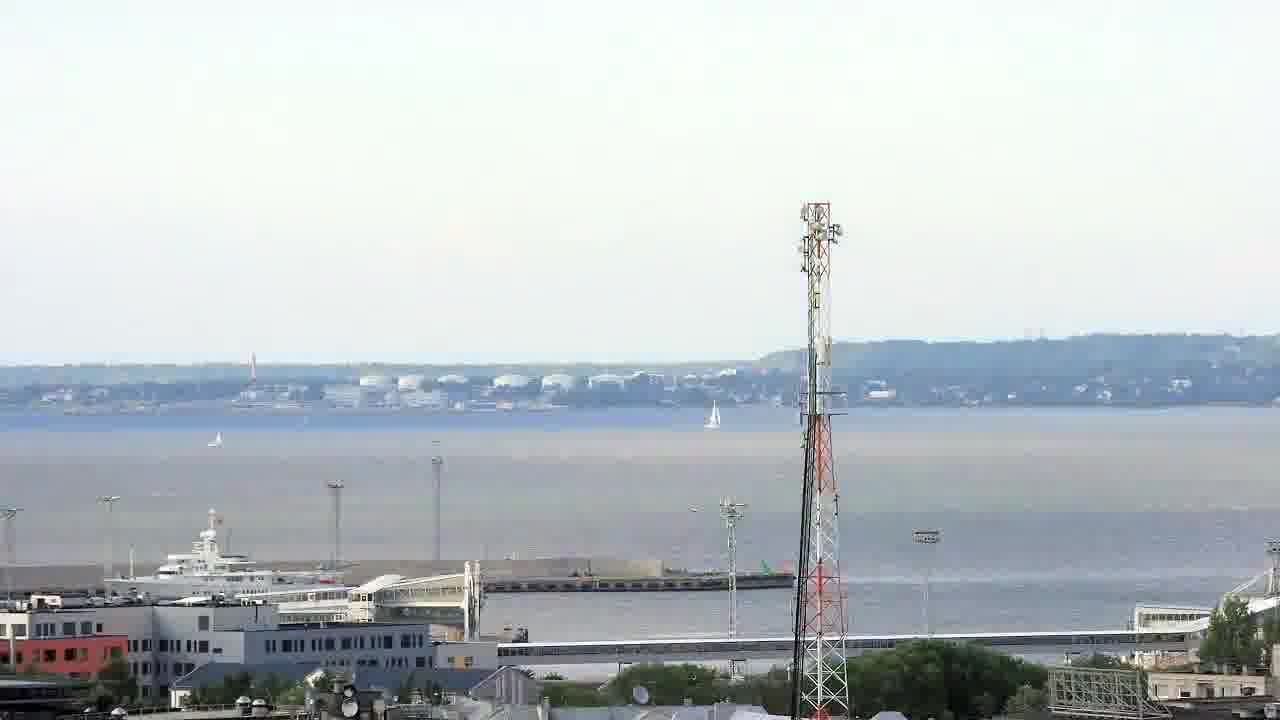type-2: (685, 387, 748, 443)
type-3: (88, 507, 346, 605)
